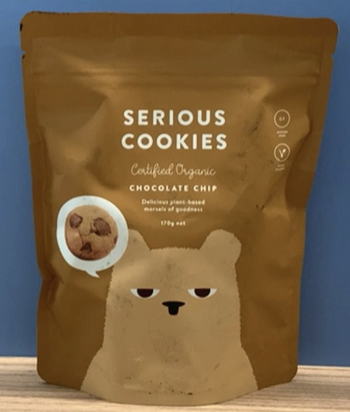cookies_100g-199g: (56, 100, 296, 370)
